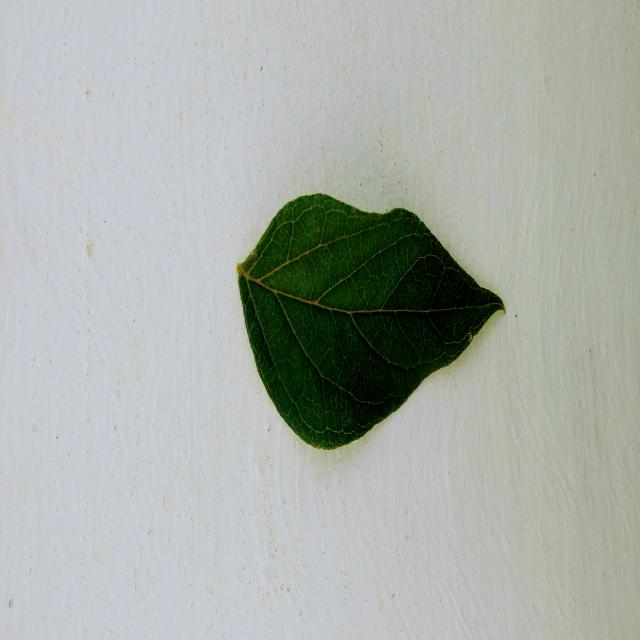Parijatha: (236, 193, 504, 449)
